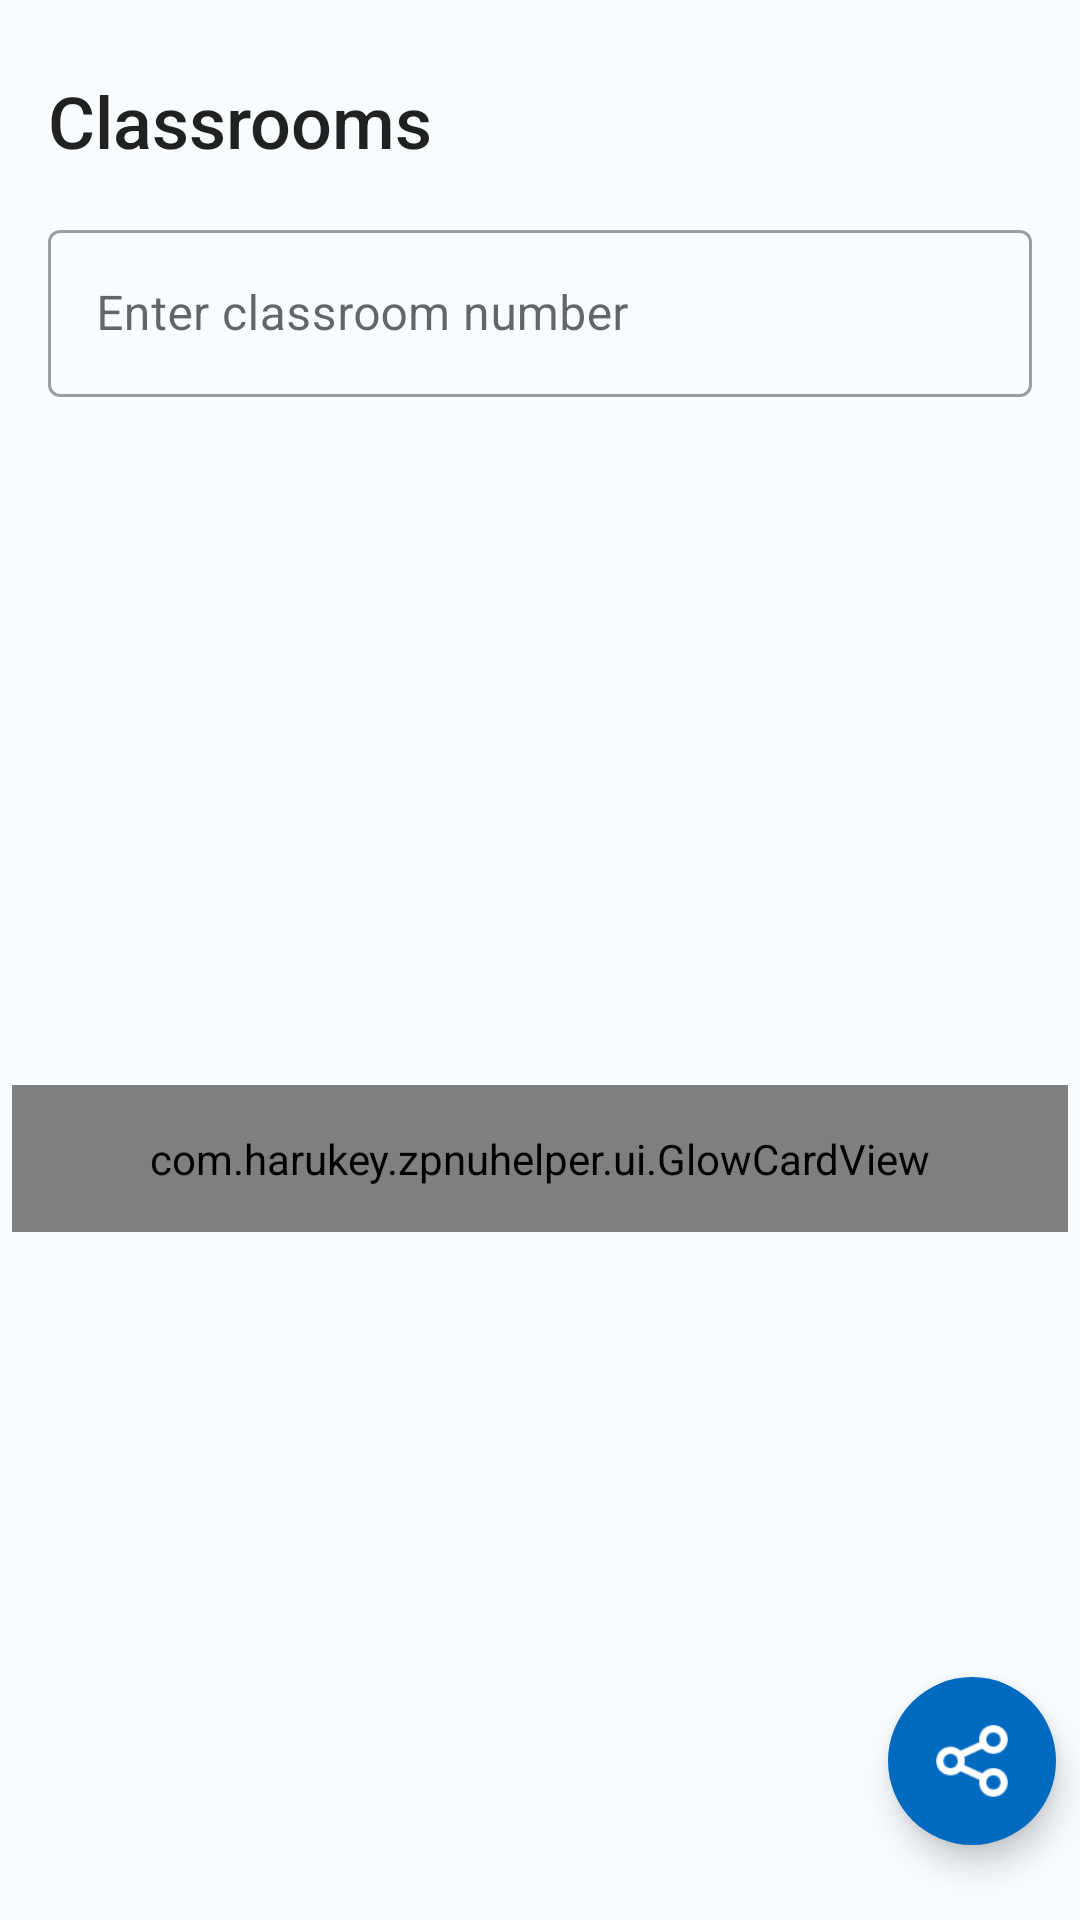

Icons on this 1080×1920 Android screen, each with the point to tap as (x=x, y=y):
share: (x=972, y=1761)
